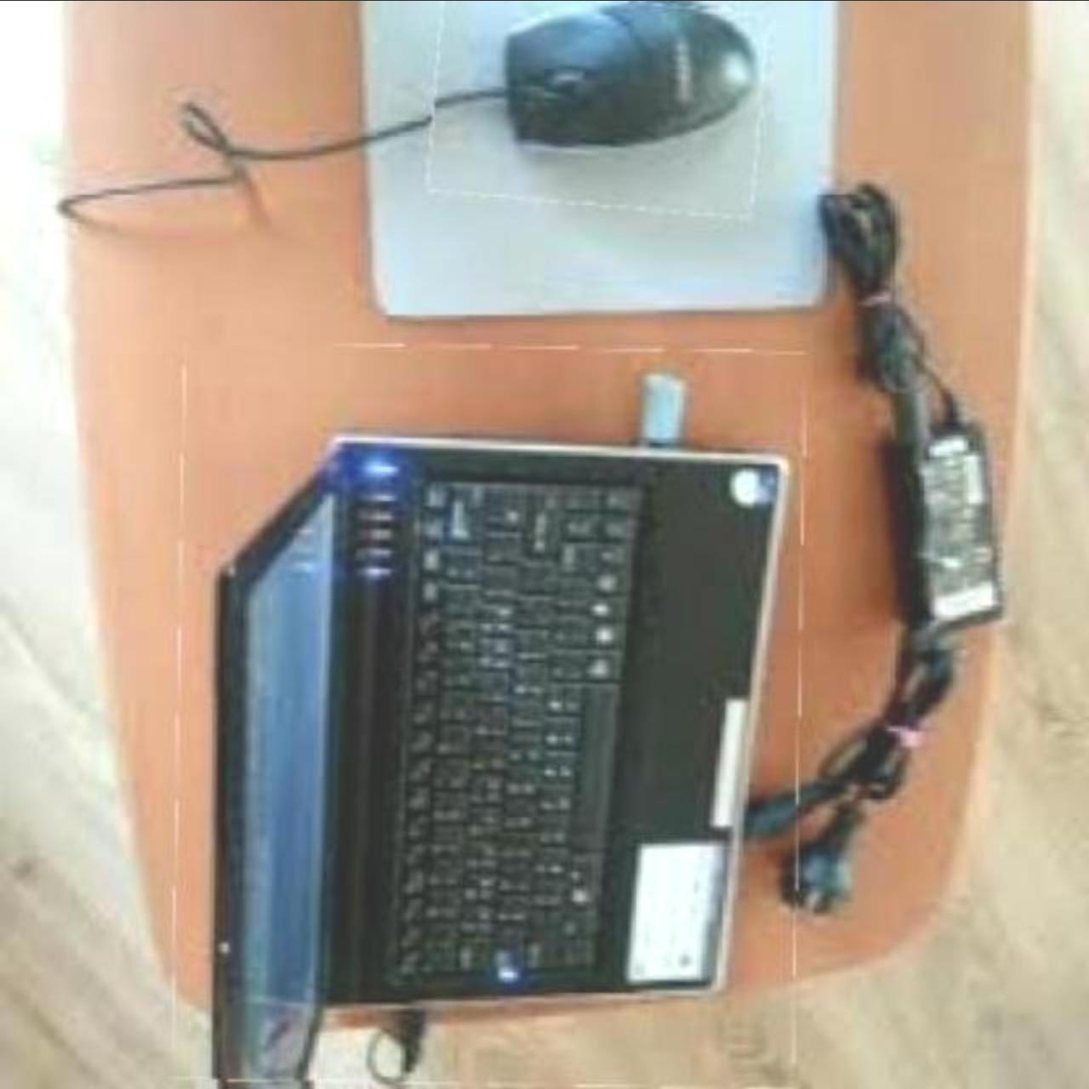laptop: (176, 346, 801, 1086)
